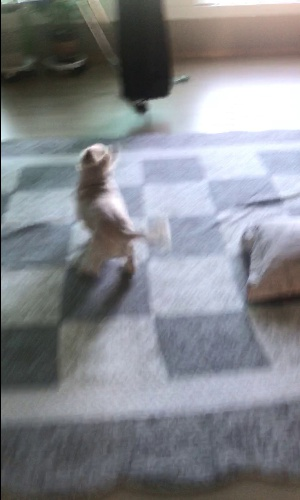ddubi: (66, 141, 176, 283)
